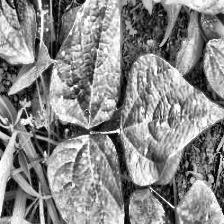Bean Rust: (126, 63, 224, 172), (50, 3, 120, 118), (60, 133, 125, 224), (172, 177, 224, 224)
